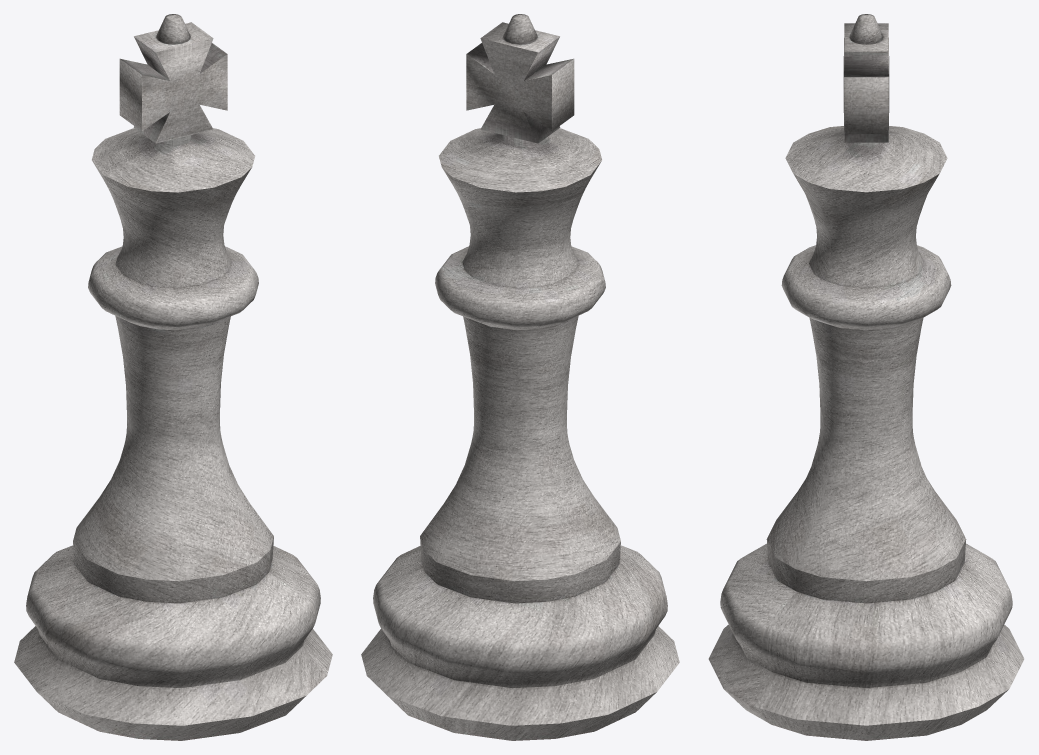
3 renders of one model, left to right at view 1: azimuth 30°, elevation 25°; view 2: azimuth 150°, elevation 25°; view 3: azimuth 270°, elevation 25°, orthographic.
Visible parts, largest first — view 1: pCube1, pCube2; view 2: pCube1, pCube2; view 3: pCube1, pCube2.
Part boxes in pixels (<box>): pCube1: <box>14,14,332,740</box>; pCube2: <box>119,22,227,143</box>; pCube1: <box>361,14,679,740</box>; pCube2: <box>466,22,574,143</box>; pCube1: <box>708,14,1024,740</box>; pCube2: <box>843,23,889,142</box>.
Bounding box in the file's own units: 4.71 × 10.98 × 4.71.
Materials: 1 (1 with a texture image).
